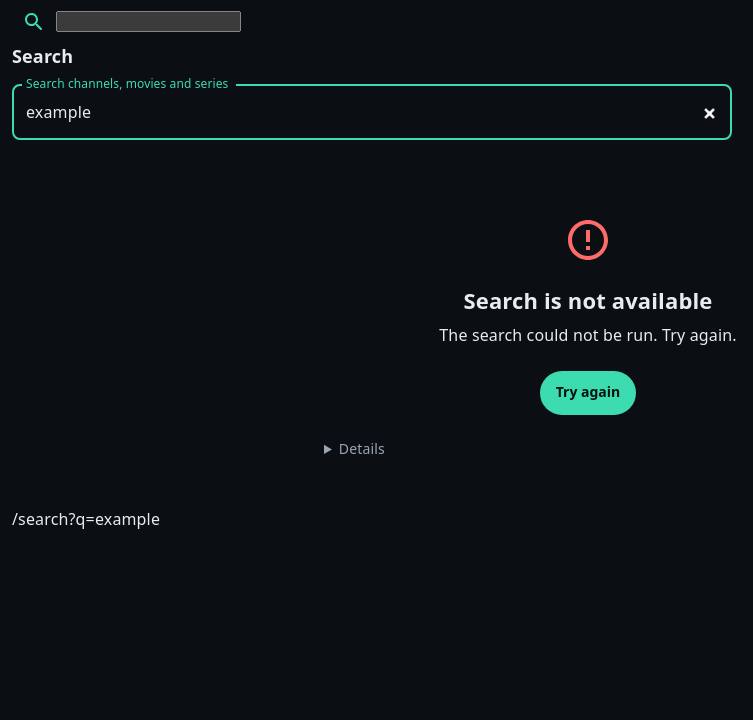
Scenario: results (AC2, AC5) › shows an error with a retry when the search fails
Expected: the heading "Search is not available" is shown, [464,285,712,315]
Click the button "Try again". click: click(588, 393)
box: [540,371,636,415]
(page scrolled)
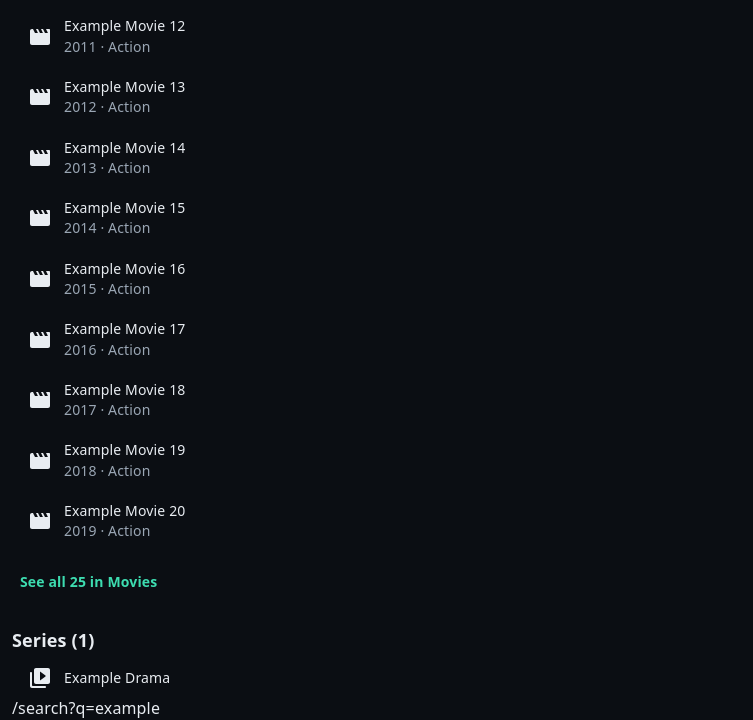
Now the text "Example Drama" is shown, box [64,668,170,687]
